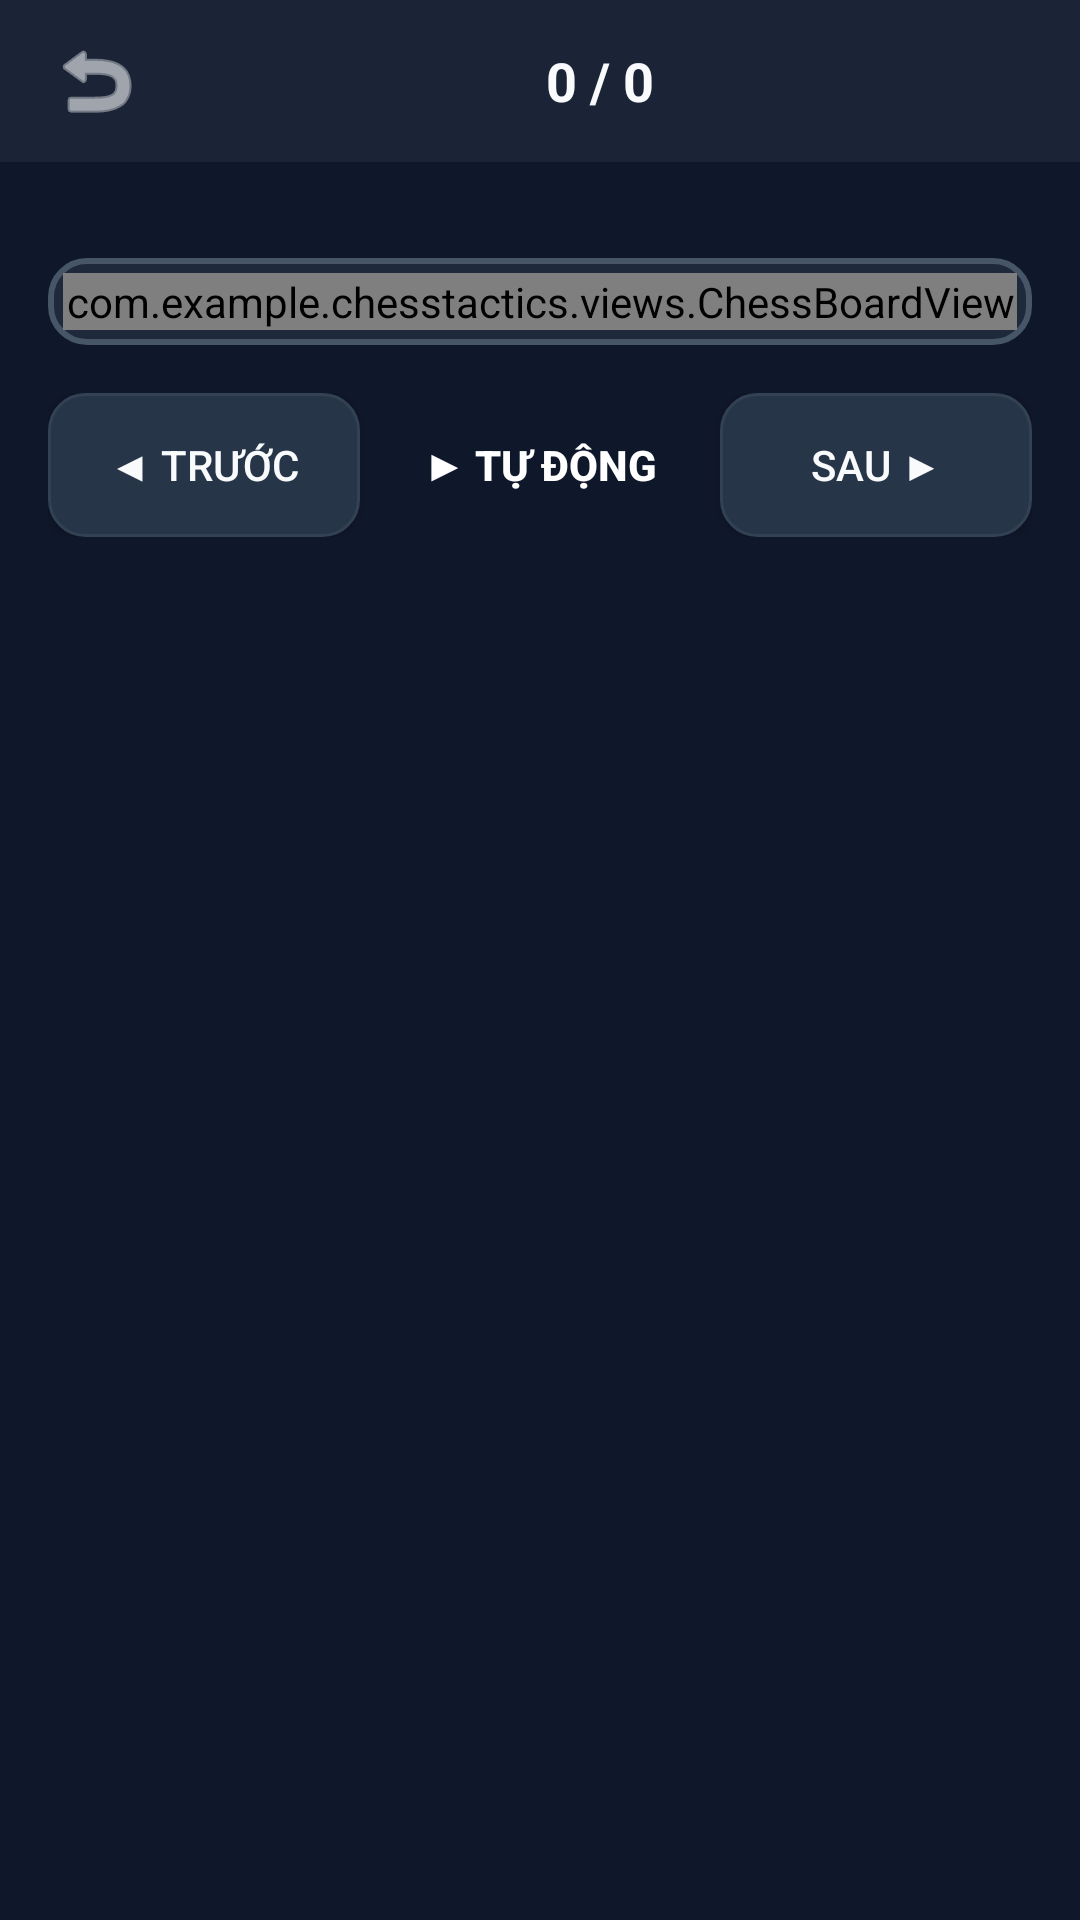

Screen size 1080×1920. Icon name, then its center in pixels as (x=x, y=y):
Back: (x=97, y=81)
